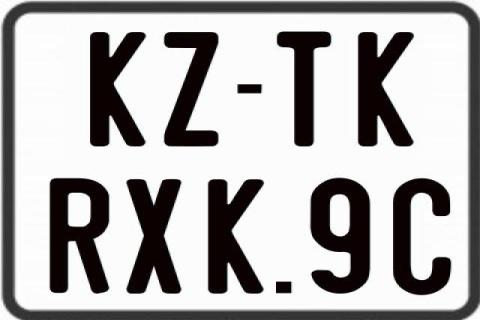0: (308, 176, 370, 294)
C: (391, 179, 450, 299)
K: (87, 31, 146, 148), (206, 177, 265, 292), (356, 30, 414, 144)
R: (49, 176, 114, 292)
T: (278, 29, 332, 149)
X: (126, 179, 185, 296)
Z: (162, 30, 222, 150)
